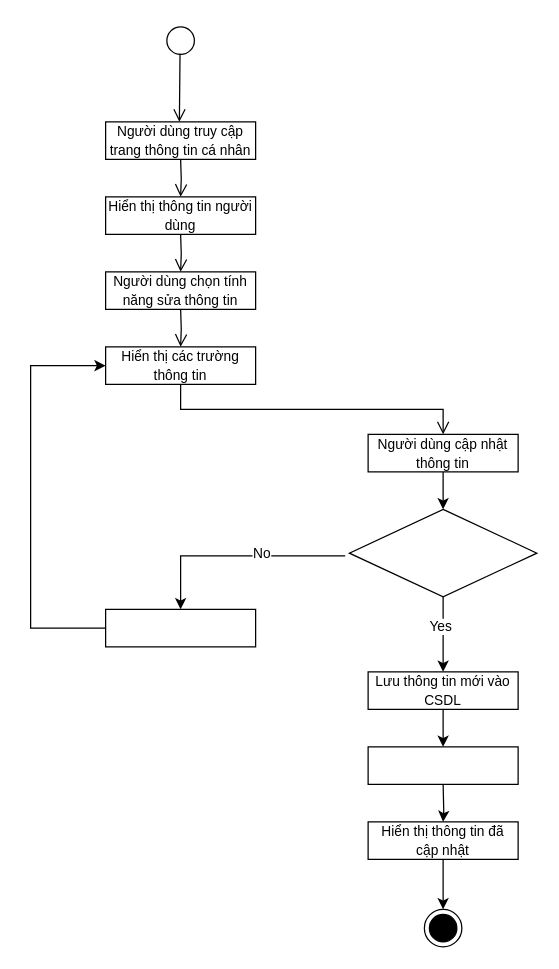
Some shapes in this 559 by 969 pixel diagram are drawn without their labels. Each missing label, with the centre of its shape:
"Hiển thị thông báo cập nhật thành công" goes at [442,765].
"Hiển thị thông báo lỗi" goes at [180,627].
"Kiểm tra các trường thông tin đã được cập nhật chưa" goes at [442,552].
